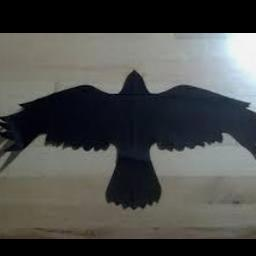Crow: (0, 69, 256, 209)
